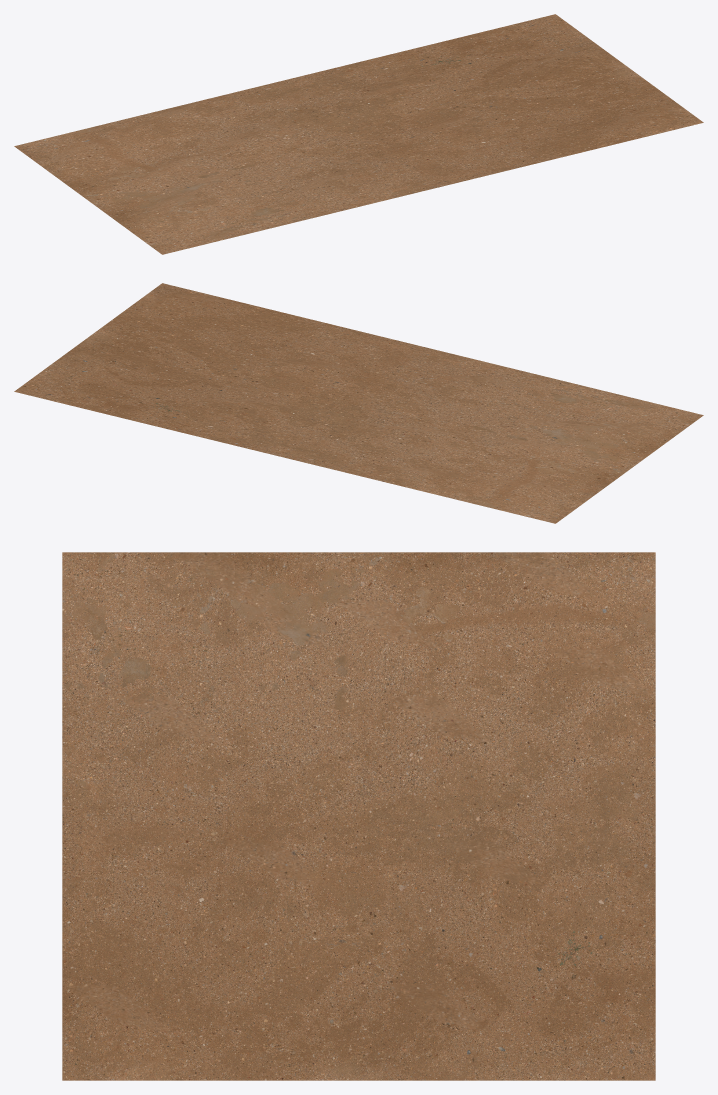
Rendered from Suelo_Zona1.glb.
3 views of the same model, one above another, from view 1: azimuth 30°, elevation 25°; view 2: azimuth 150°, elevation 25°; view 3: azimuth 270°, elevation 25° (orthographic). The views are drawn at different scales.
Parts seen in each view (by area): view 1: Plano; view 2: Plano; view 3: Plano.
Part boxes in pixels (bbox=[...]): Plano: bbox=[14, 14, 703, 254]; Plano: bbox=[14, 283, 703, 523]; Plano: bbox=[62, 552, 655, 1080].
Bounding box in the file's own units: 80.25 × 0.7202 × 38.08.
Materials: 1 (1 with a texture image).
